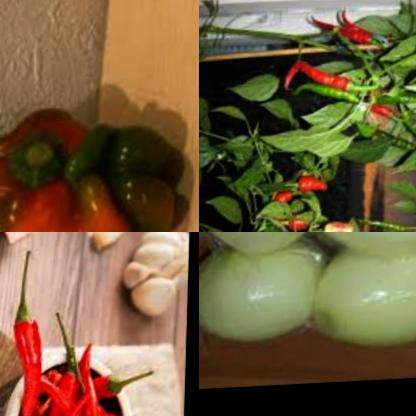bell pepper: (0, 89, 199, 232)
garlic: (120, 257, 188, 324), (131, 232, 190, 286), (88, 232, 138, 255)
hot pepper: (3, 257, 183, 416), (279, 58, 370, 113), (309, 12, 394, 56), (363, 97, 413, 138), (299, 176, 333, 199), (277, 189, 303, 211), (318, 219, 360, 232), (290, 214, 315, 232)
onion: (199, 232, 416, 366)
